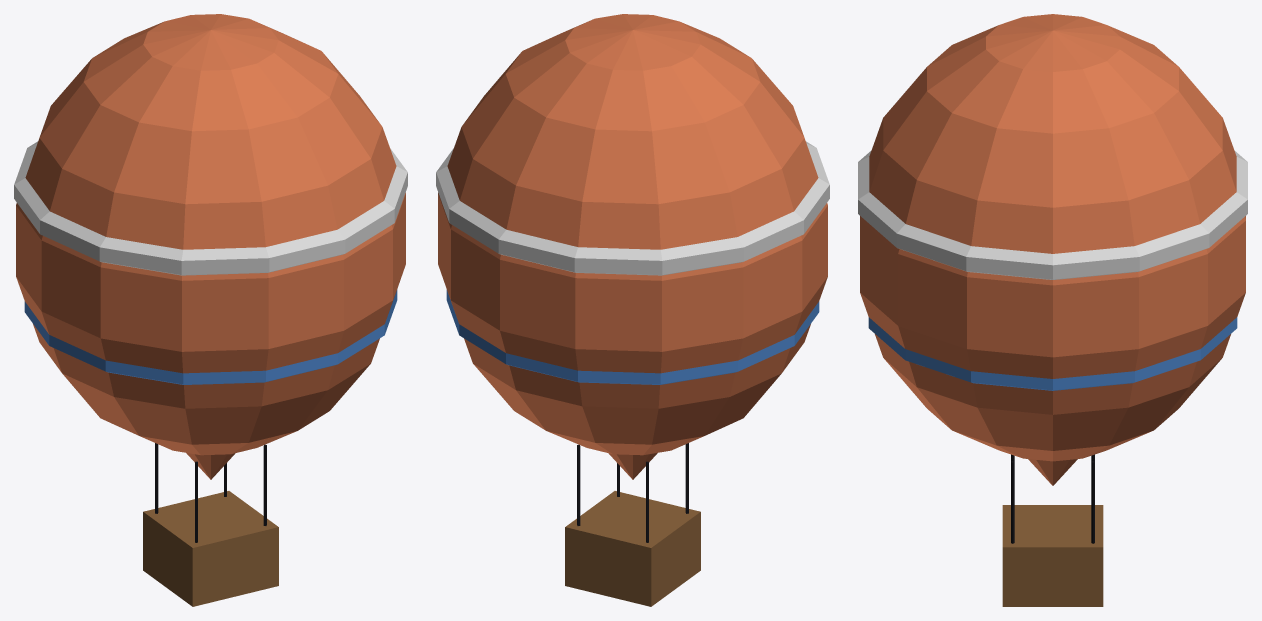
Rendered from balloon.glb.
The picture shows the model from 3 angles, left to right: view 1: azimuth 30°, elevation 25°; view 2: azimuth 150°, elevation 25°; view 3: azimuth 270°, elevation 25°; orthographic projection.
Parts seen in each view (by area): view 1: balloon; view 2: balloon; view 3: balloon.
Part boxes in pixels (x1=…): balloon: x1=14, y1=14, x2=407, y2=606; balloon: x1=436, y1=14, x2=829, y2=606; balloon: x1=858, y1=14, x2=1247, y2=606.
Size of the model in its own units: 2.19 by 3.35 by 2.13.
